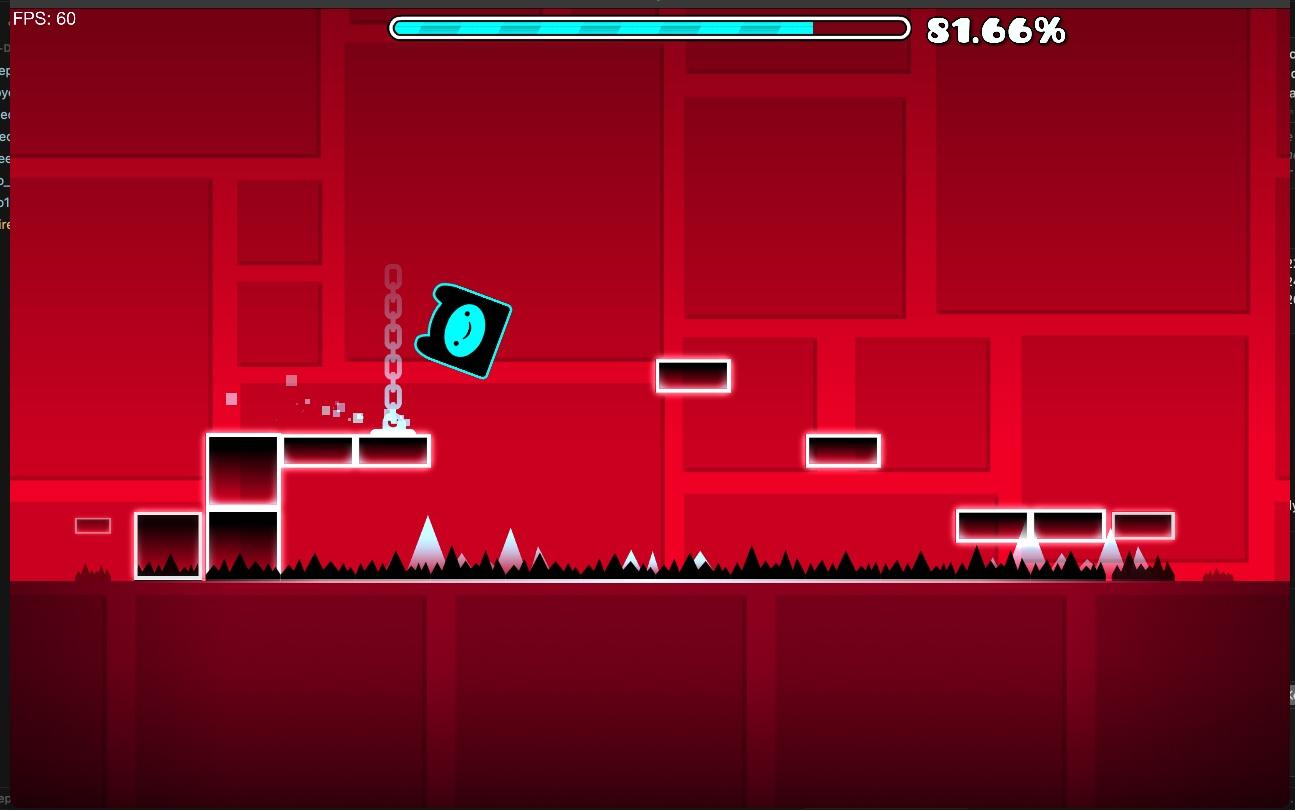block: (206, 437, 279, 579)
platform: (955, 507, 1176, 543), (280, 437, 430, 463), (655, 358, 732, 395), (805, 434, 882, 468)
player: (415, 283, 510, 378)
spike: (208, 546, 1111, 580), (409, 517, 448, 570), (481, 529, 524, 572), (608, 550, 659, 572), (529, 547, 556, 569), (685, 552, 708, 567), (448, 551, 468, 566)
